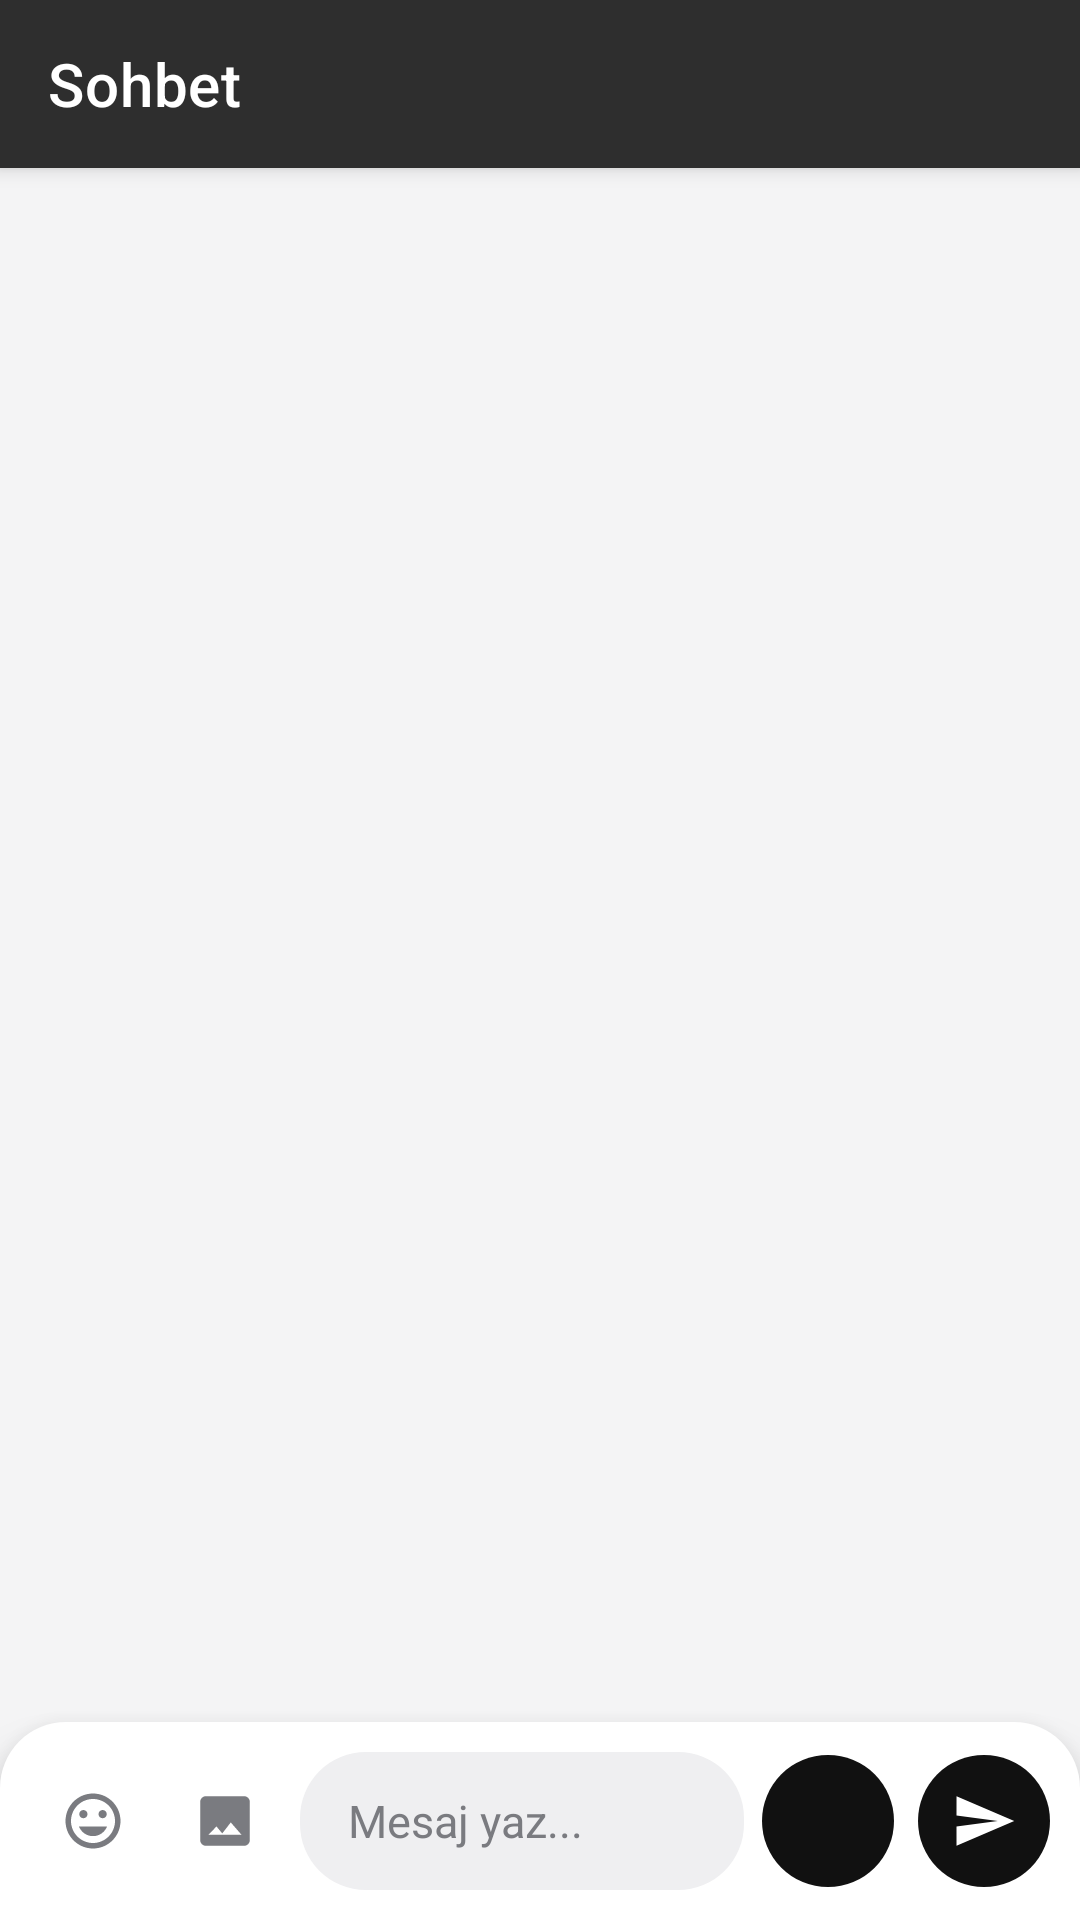

Named icons in this screenshot (1080 × 1920) and their centers, [x,y]:
Emoji: [93,1821]
send: [984,1821]
